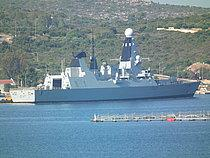MIL_Ship: (7, 26, 201, 103)
